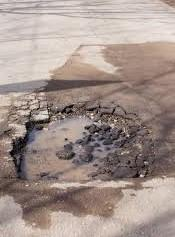pothole: (10, 101, 158, 182)
